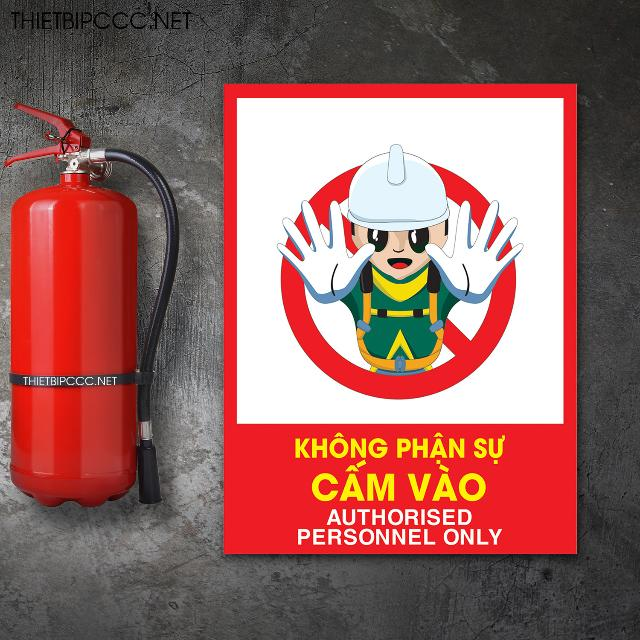khong phan su mien vao: (223, 85, 576, 554)
